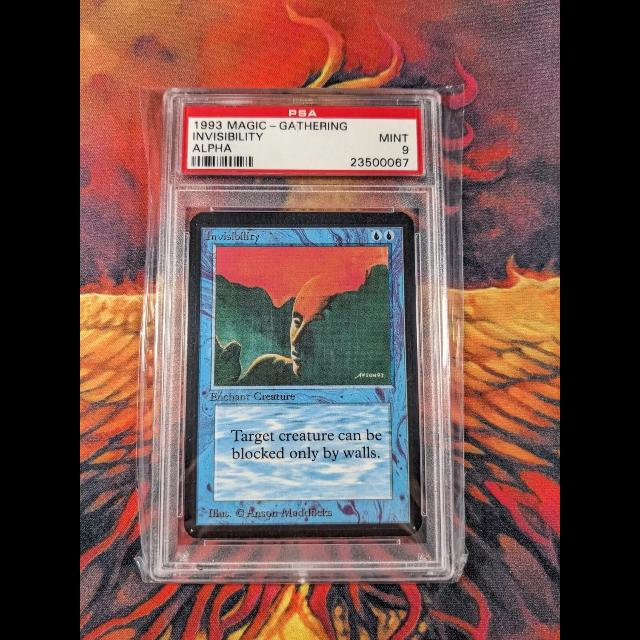card: (182, 211, 423, 538)
psa_label_old: (181, 104, 424, 175)
psa_slab: (149, 86, 455, 582)
